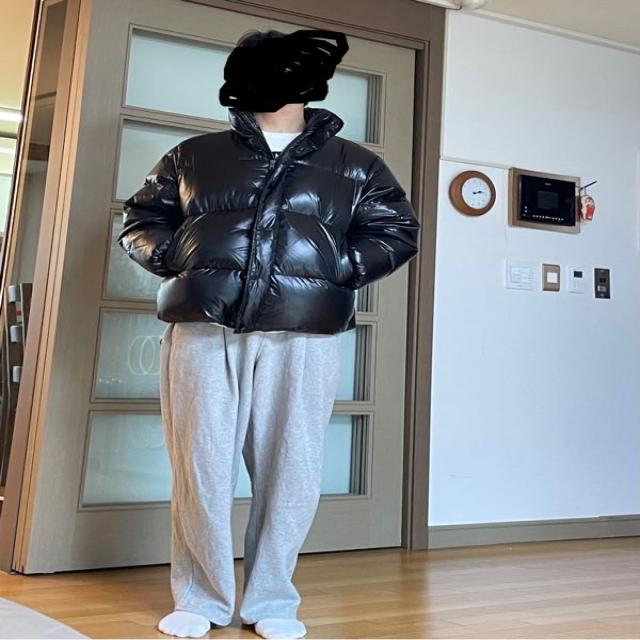padding: (117, 107, 420, 340)
trainingpants: (160, 314, 343, 624)
